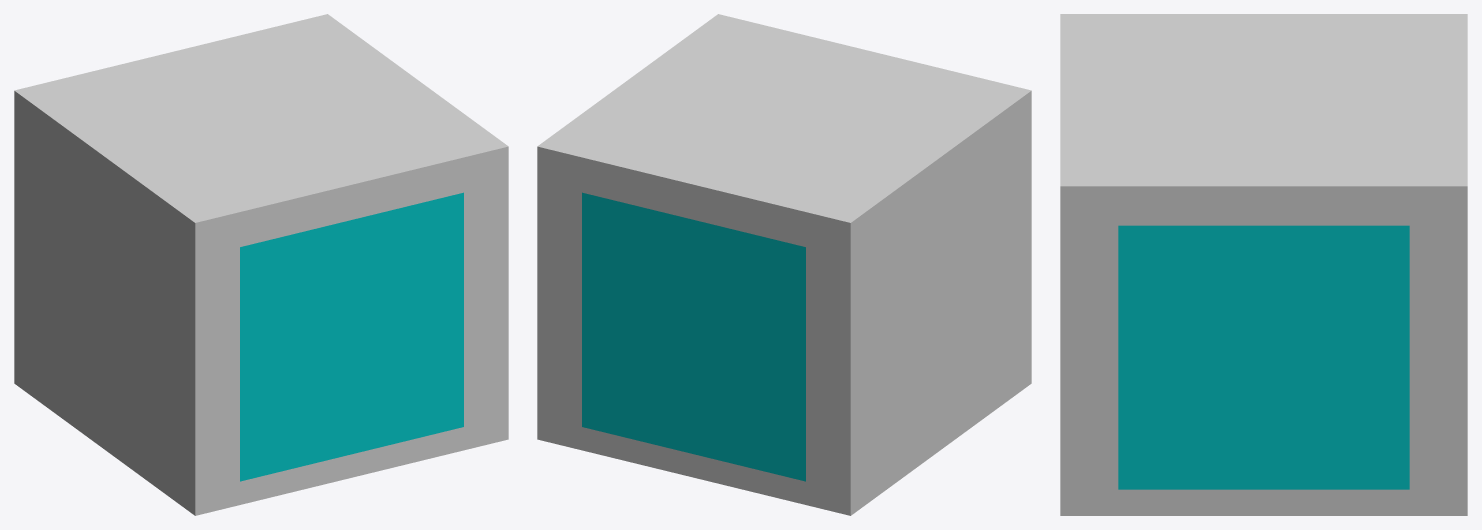
Rendered from cubeTest.fbx.
3 renders of one model, left to right at view 1: azimuth 30°, elevation 25°; view 2: azimuth 150°, elevation 25°; view 3: azimuth 270°, elevation 25°, orthographic. The views are drawn at different scales.
Visible parts, largest first — view 1: Cube; view 2: Cube; view 3: Cube.
Part boxes in pixels (bbox=[...]): Cube: bbox=[14, 14, 508, 515]; Cube: bbox=[537, 14, 1031, 515]; Cube: bbox=[1060, 14, 1467, 515].
Size of the model in its own units: 280 by 250 by 280.
